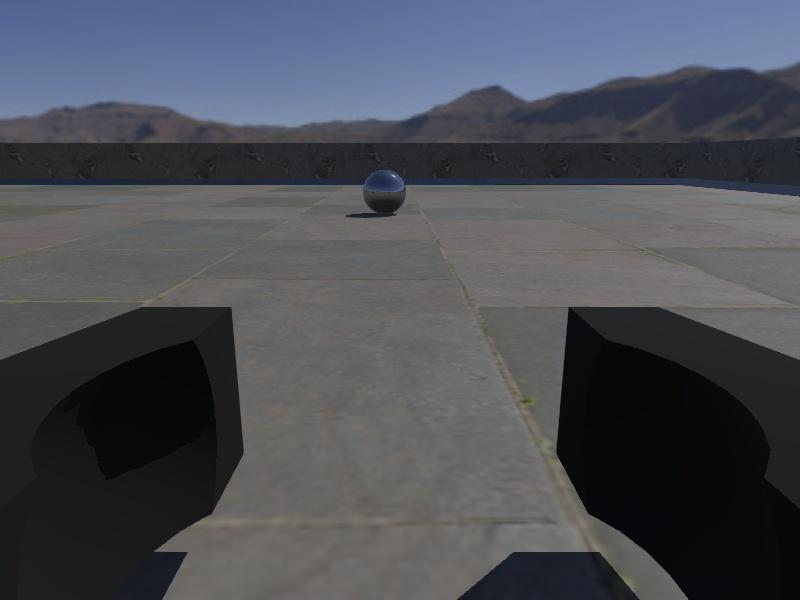steel ball: (361, 168, 408, 215)
